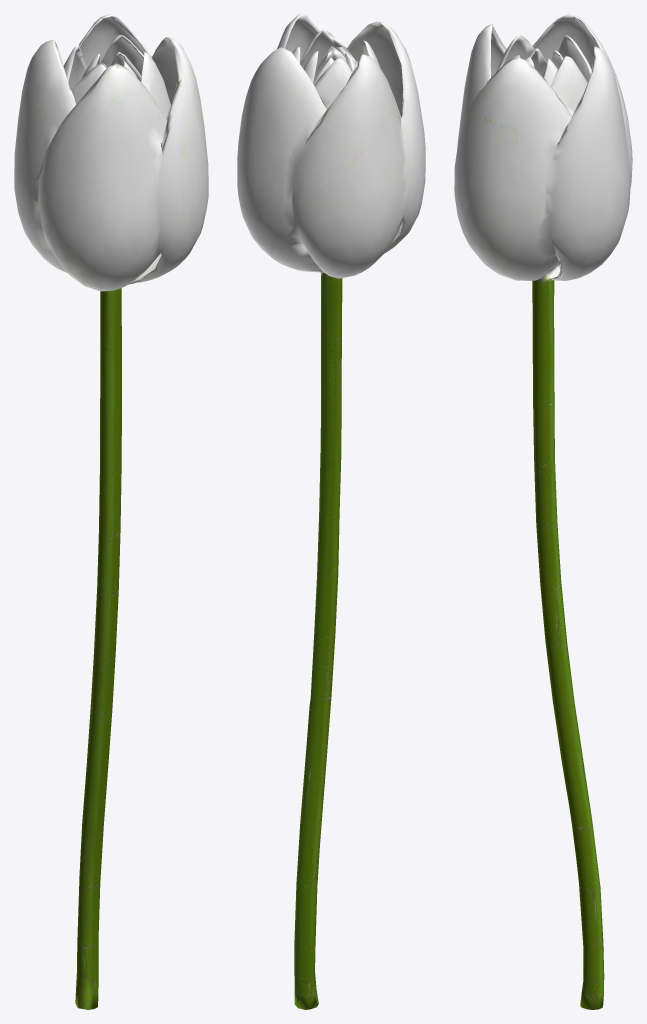
Rendered from tulip_white.glb.
3 renders of one model, left to right at view 1: azimuth 30°, elevation 25°; view 2: azimuth 150°, elevation 25°; view 3: azimuth 270°, elevation 25°, orthographic. The views are drawn at different scales.
Bounding box in the file's own units: 0.3168 × 1.9 × 0.3161.
1 material, 1 textured.
